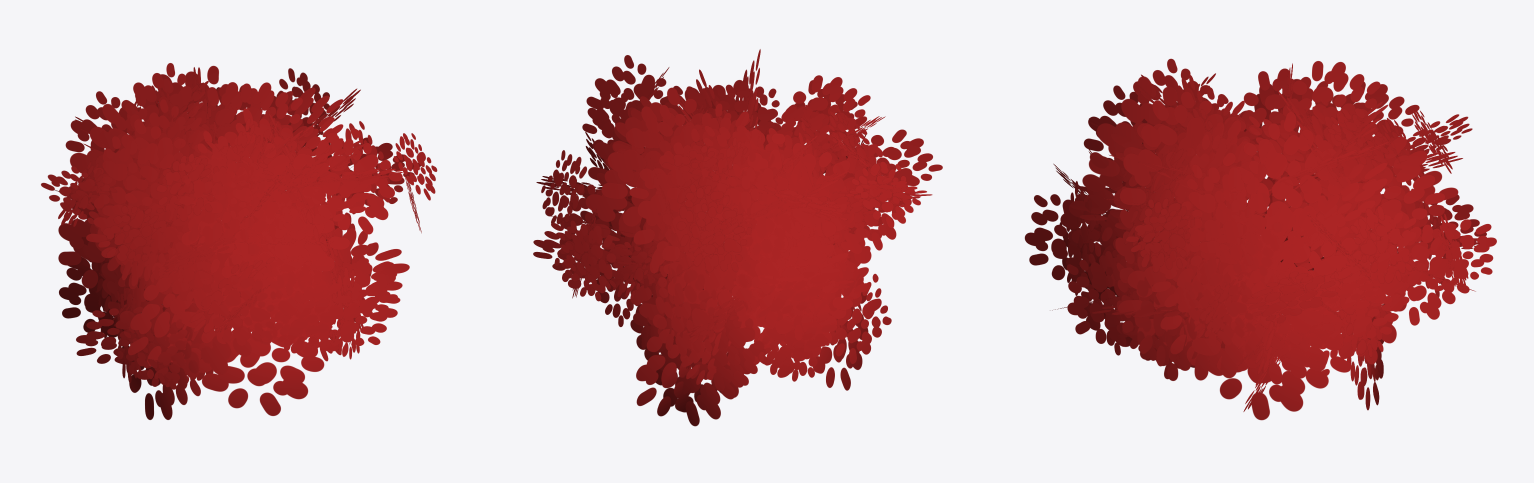
File: bush.glb
3 renders of one model, left to right at view 1: azimuth 30°, elevation 25°; view 2: azimuth 150°, elevation 25°; view 3: azimuth 270°, elevation 25°, orthographic. The views are drawn at different scales.
Parts seen in each view (by area): view 1: Bush_Common; view 2: Bush_Common; view 3: Bush_Common.
Part boxes in pixels (left/top/right/bottom): Bush_Common: left=41, top=63, right=437, bottom=419; Bush_Common: left=533, top=49, right=942, bottom=426; Bush_Common: left=1024, top=58, right=1496, bottom=420.
Size of the model in its own units: 2.05 by 1.78 by 2.1.
1 material, 1 textured.
